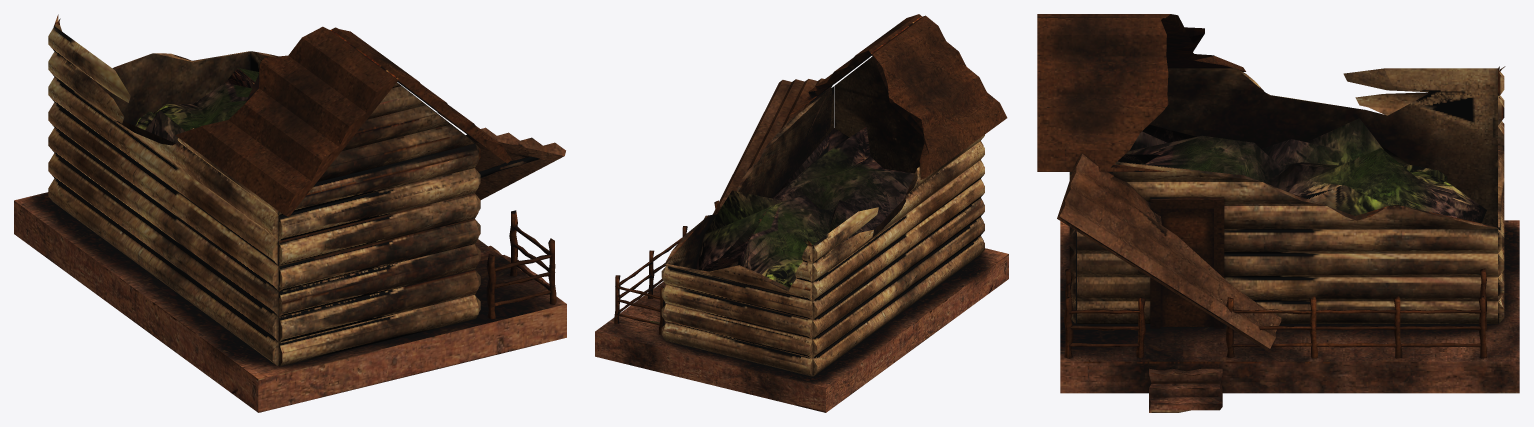
Rendered from DestroyedHut.fbx.
3 renders of one model, left to right at view 1: azimuth 30°, elevation 25°; view 2: azimuth 150°, elevation 25°; view 3: azimuth 270°, elevation 25°, orthographic. The views are drawn at different scales.
Parts seen in each view (by area): view 1: Cube.021, Cube, Cube.019, Cube.001, Cube.002, Cube.023; view 2: Cube.021, Cube, Cube.001, Cube.019, Cube.002, Cube.023; view 3: Cube.021, Cube, Cube.019, Cube.001, Cube.002, Cube.023, Cube.036, Cube.035.
Boxes of the visible parts, x1=… form: Cube.021: x1=48, y1=14, x2=480, y2=366; Cube: x1=14, y1=192, x2=566, y2=412; Cube.019: x1=175, y1=26, x2=511, y2=216; Cube.001: x1=135, y1=67, x2=306, y2=333; Cube.002: x1=465, y1=127, x2=565, y2=199; Cube.023: x1=486, y1=210, x2=556, y2=319; Cube.021: x1=661, y1=56, x2=984, y2=376; Cube: x1=595, y1=248, x2=1008, y2=412; Cube.001: x1=695, y1=126, x2=914, y2=287; Cube.019: x1=788, y1=14, x2=1007, y2=179; Cube.002: x1=713, y1=78, x2=832, y2=213; Cube.023: x1=614, y1=200, x2=719, y2=334; Cube.021: x1=1069, y1=66, x2=1505, y2=323; Cube: x1=1060, y1=220, x2=1519, y2=393; Cube.019: x1=1037, y1=14, x2=1245, y2=171; Cube.001: x1=1117, y1=118, x2=1486, y2=223; Cube.002: x1=1057, y1=153, x2=1281, y2=350; Cube.023: x1=1064, y1=268, x2=1486, y2=358; Cube.036: x1=1150, y1=197, x2=1224, y2=328; Cube.035: x1=1149, y1=368, x2=1222, y2=412.
Size of the model in its own units: 1015 by 889 by 1307.
